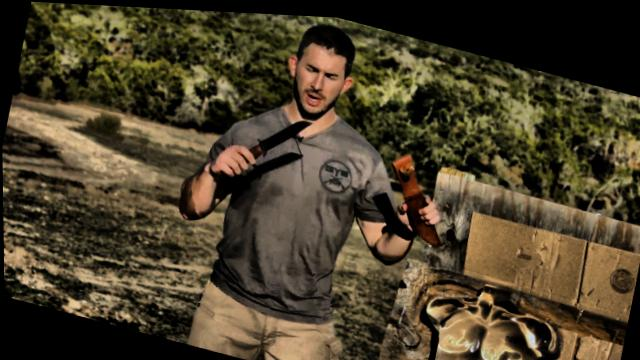knife: (214, 88, 320, 191)
